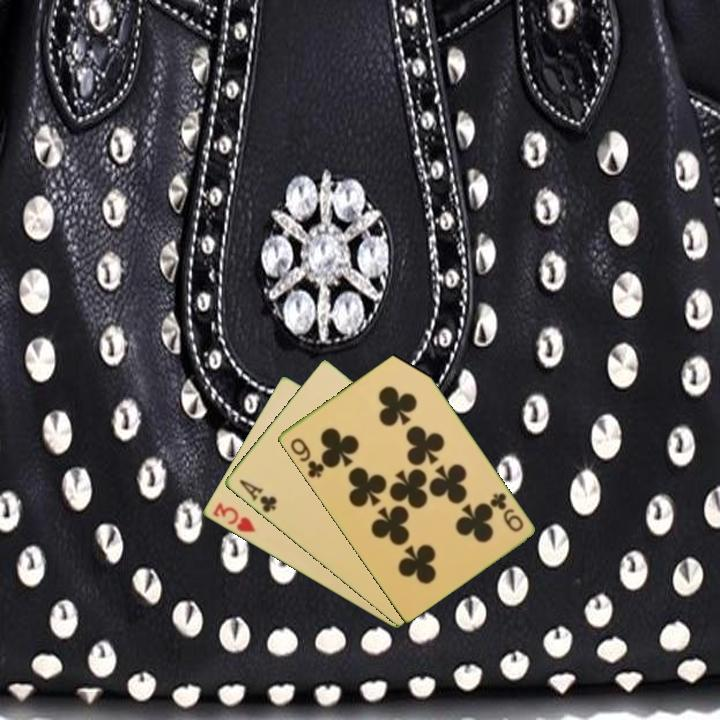3h: (209, 499, 258, 535)
9c: (286, 434, 327, 481), (486, 489, 526, 535)
Ac: (235, 476, 280, 516)
